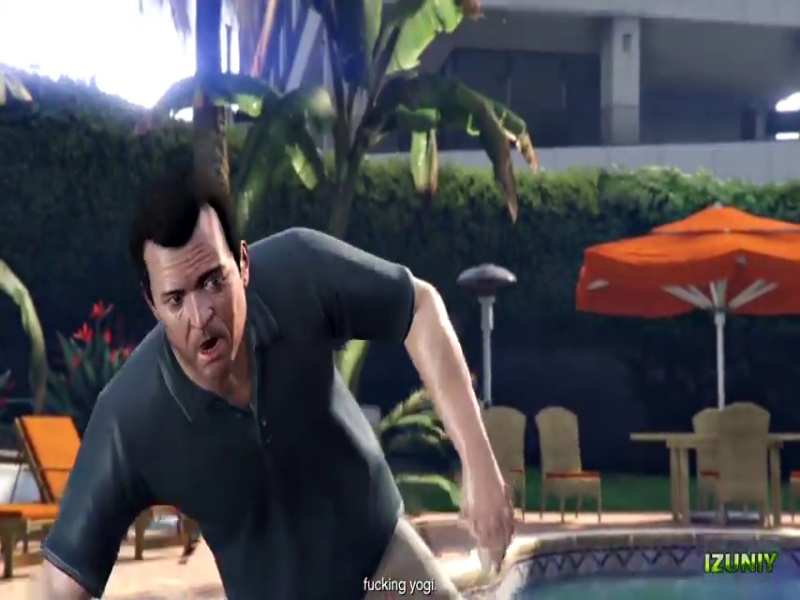licenseplate: (531, 25, 595, 182)
